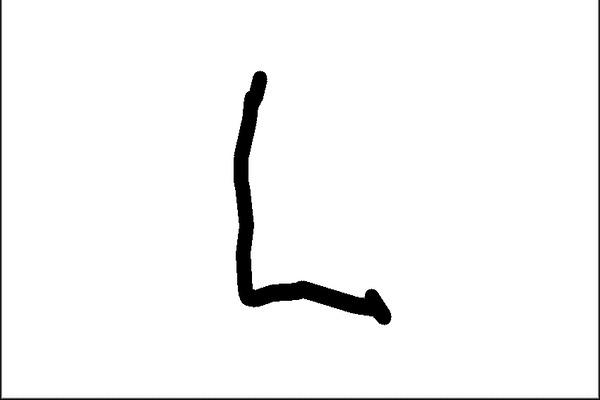L: (226, 64, 396, 330)
